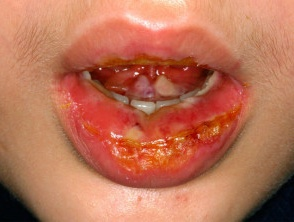SJS-TEN: (24, 0, 272, 221)
